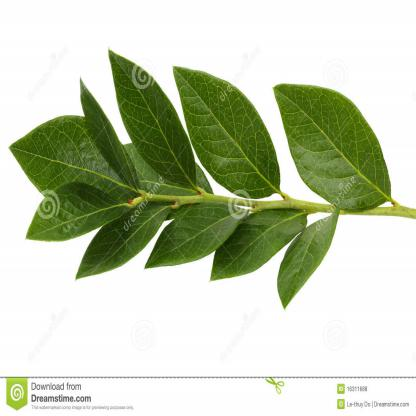blueberry leaf: (167, 57, 287, 203), (270, 76, 398, 211), (108, 48, 198, 192), (134, 204, 265, 277), (265, 210, 349, 319), (73, 197, 175, 285), (205, 209, 305, 289), (13, 181, 132, 245), (77, 75, 142, 189)
